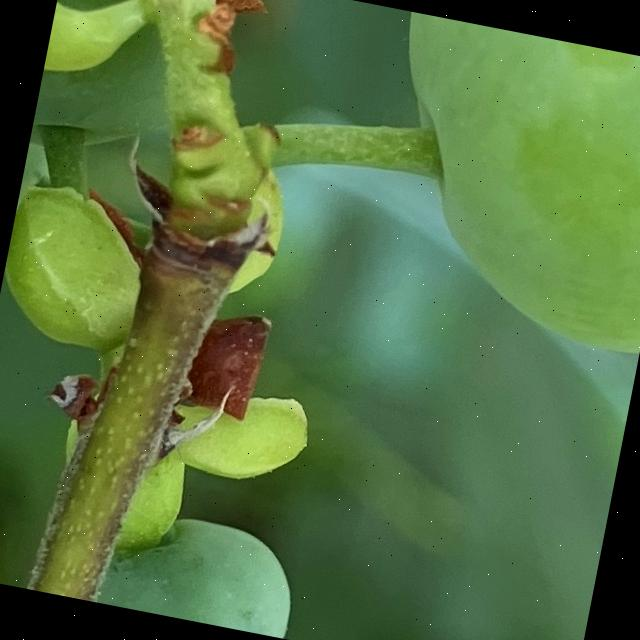Blueberries: (349, 10, 640, 363)
